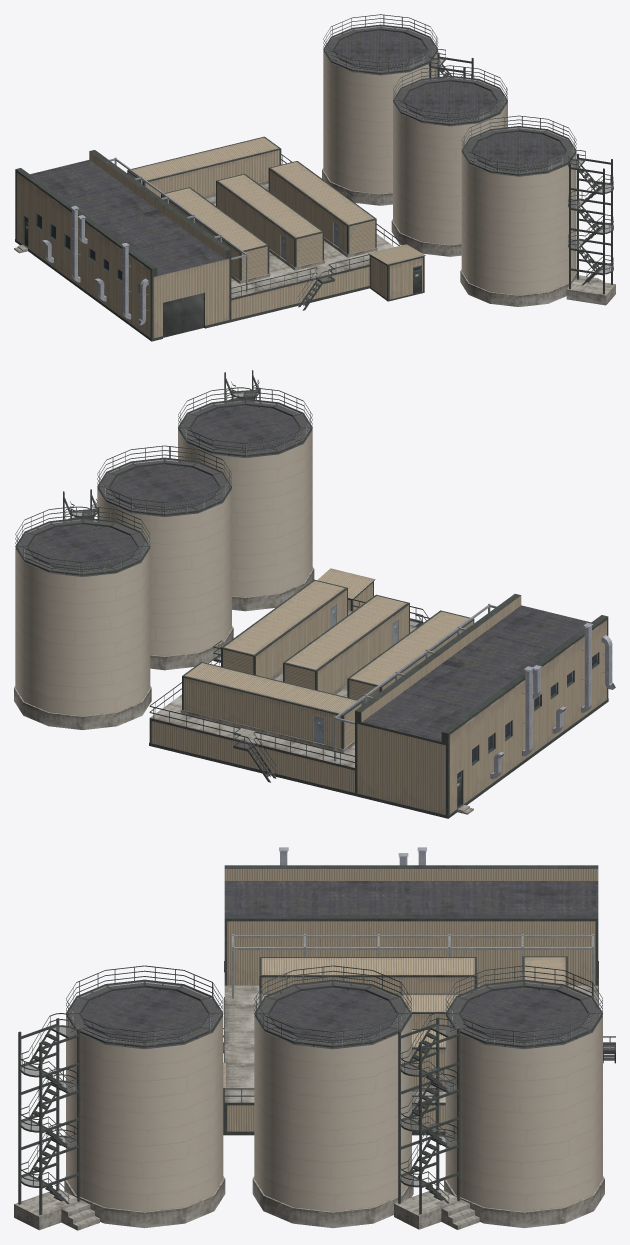
File: plant-building13.glb
The picture shows the model from 3 angles, top to bottom: view 1: azimuth 30°, elevation 25°; view 2: azimuth 150°, elevation 25°; view 3: azimuth 270°, elevation 25°; orthographic projection. The views are drawn at different scales.
Visible parts, largest first — view 1: Object8933143; view 2: Object8933143; view 3: Object8933143.
Part boxes in pixels (left/top/right/bottom): Object8933143: left=14, top=14, right=615, bottom=341; Object8933143: left=14, top=370, right=615, bottom=818; Object8933143: left=14, top=847, right=615, bottom=1230.
Size of the model in its own units: 43.33 by 14.5 by 40.49.
Materials: 1 (1 with a texture image).
